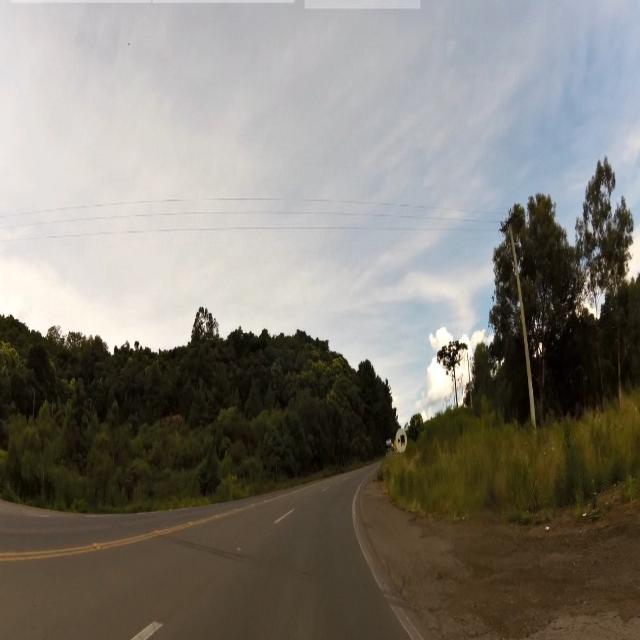R-27: (395, 427, 407, 456)
